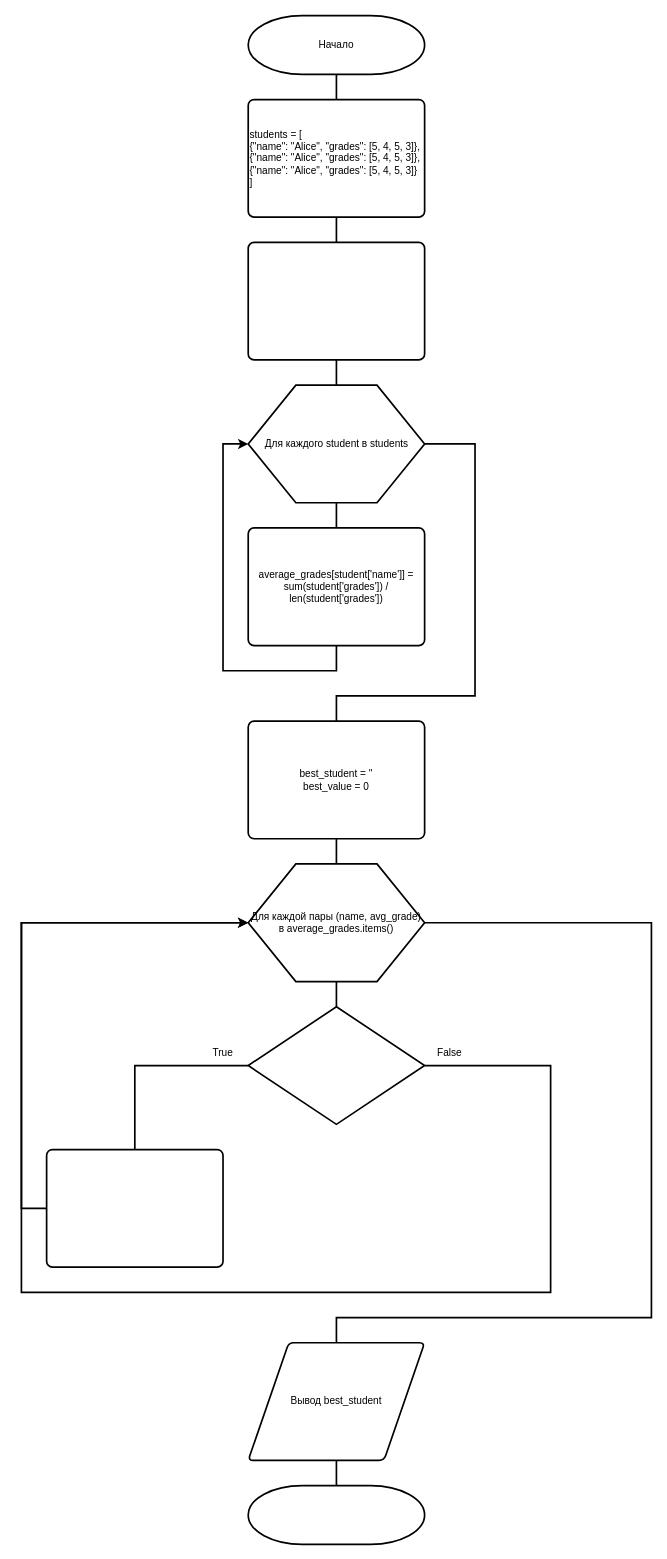
The diagram is 667 pixels wide and 1559 high, and some of its shapes have lost their labels. The centre of each missing label's shape, as x and y in pixels:
"average_grades = dict()" goes at (x=336, y=300).
"avg_grade > best_value" goes at (x=336, y=1065).
"best_student = name best_value = avg_grade" goes at (x=134, y=1208).
"Конец" goes at (x=336, y=1514).
